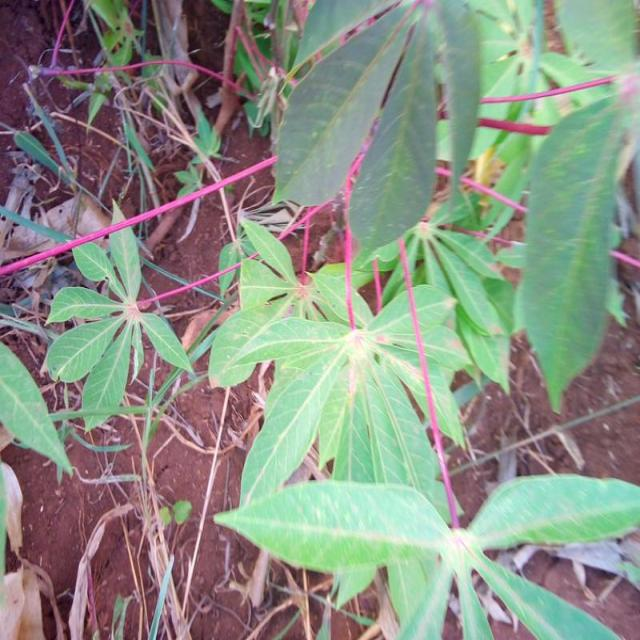cassava leaf: (513, 88, 629, 414), (44, 197, 196, 433)
